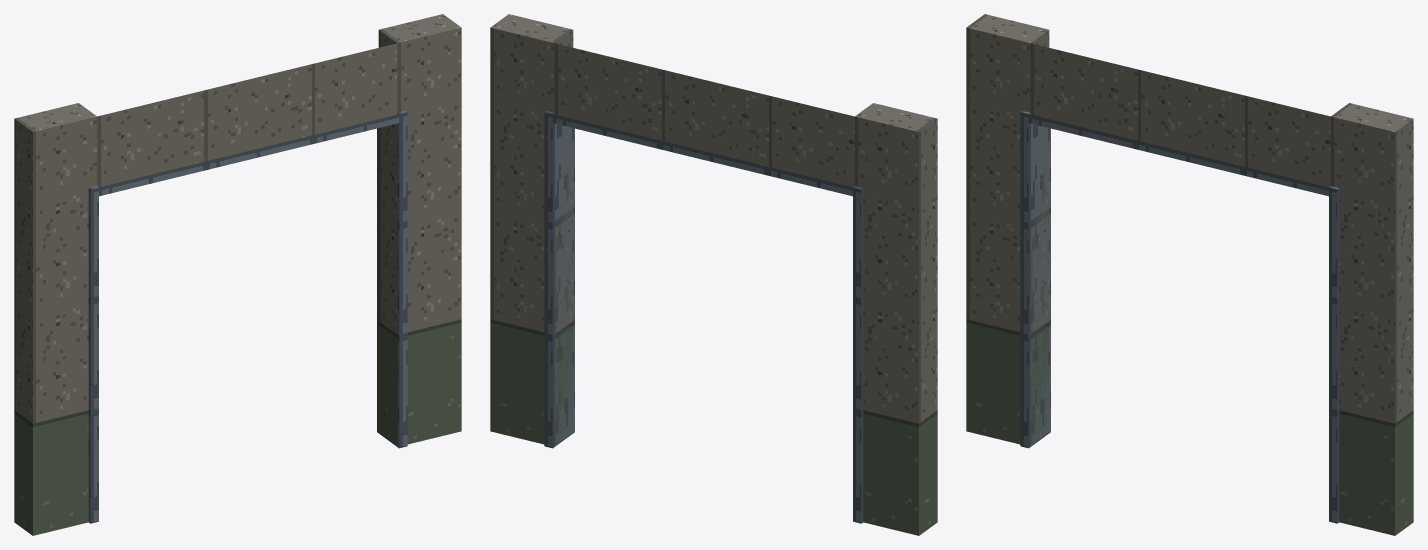
The model's file is opening_wide.glb.
The picture shows the model from 3 angles, left to right: view 1: azimuth 30°, elevation 25°; view 2: azimuth 150°, elevation 25°; view 3: azimuth 330°, elevation 25°; orthographic projection.
Visible parts, largest first — view 1: opening_wide mesh; view 2: opening_wide mesh; view 3: opening_wide mesh.
Part boxes in pixels (left/top/right/bottom): opening_wide mesh: left=14, top=14, right=461, bottom=535; opening_wide mesh: left=490, top=14, right=937, bottom=535; opening_wide mesh: left=966, top=14, right=1413, bottom=535.
Size of the model in its own units: 4 by 3.6 by 0.36.
3 materials, 3 textured.
